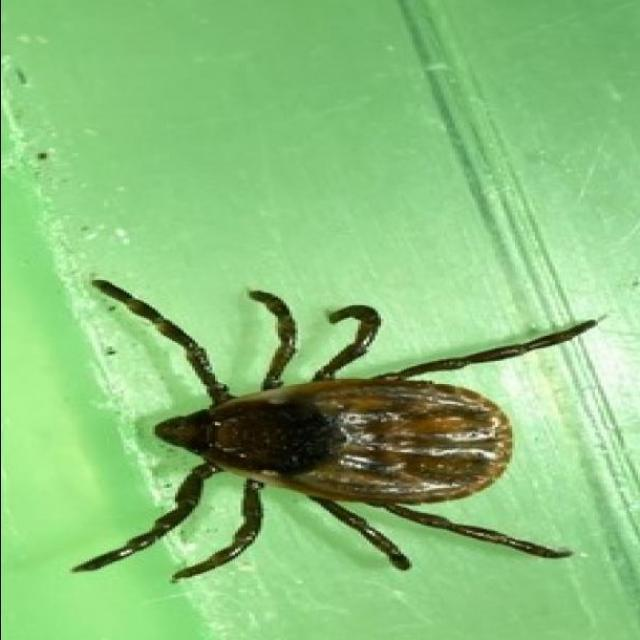Rhipicephalus Sanguineus-F: (74, 280, 591, 581)
